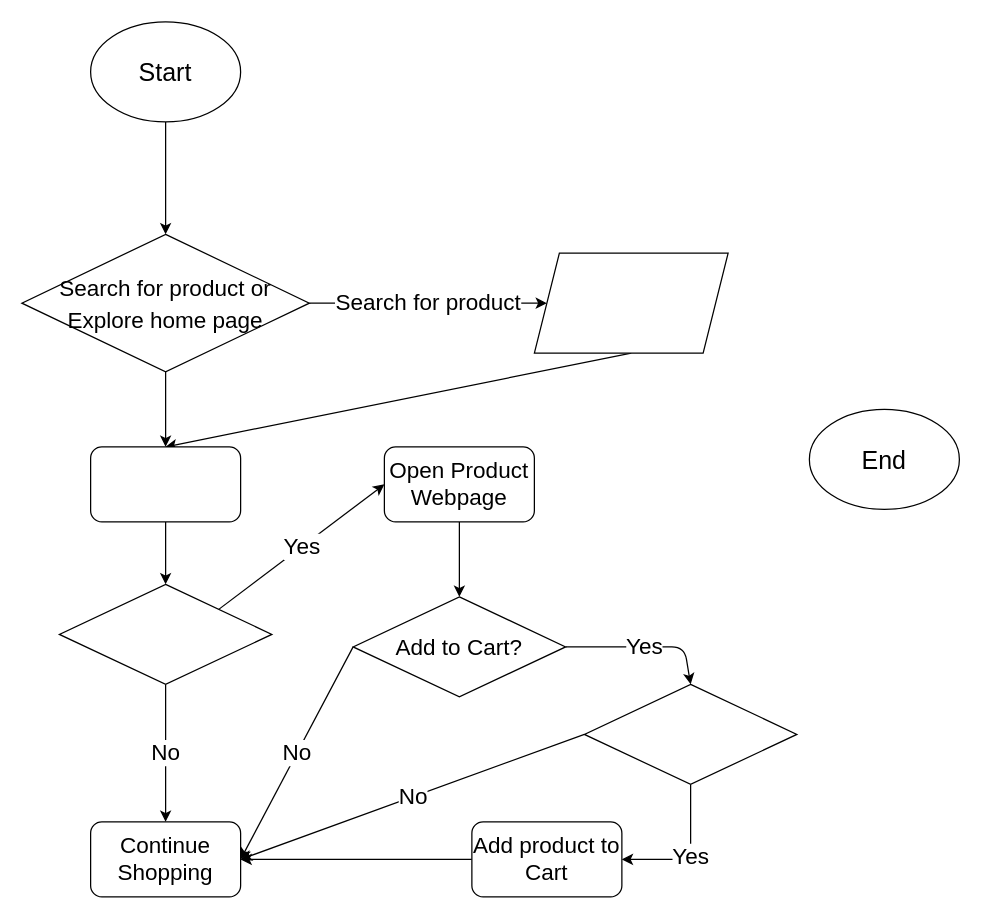
Some shapes in this 981 by 919 pixel diagram are drawn without their labels. The shapes that lost their labels are listed below. From the top down, each one's box as (x1, y1, x2, y2) in pixels, then its label:
(533, 252, 728, 353): User Provides Website of Search
(89, 446, 241, 522): Display products
(58, 583, 272, 684): View Specific Product
(583, 683, 797, 784): Add to Cart Confirmation
